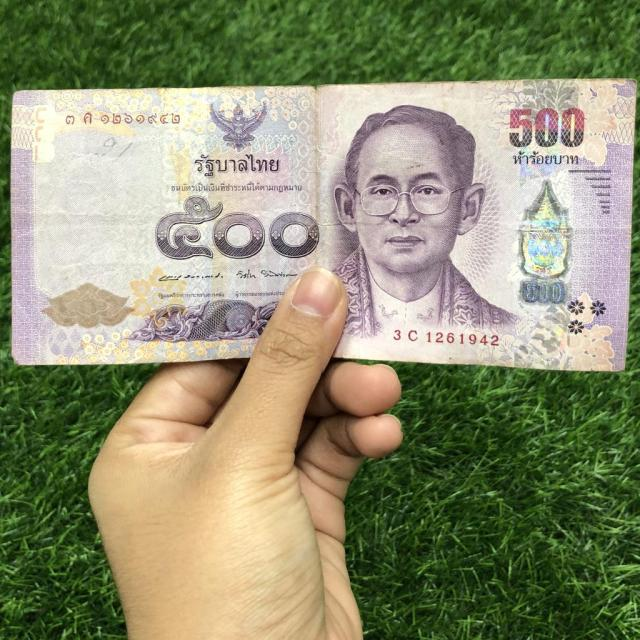THAI500: (11, 79, 637, 373)
